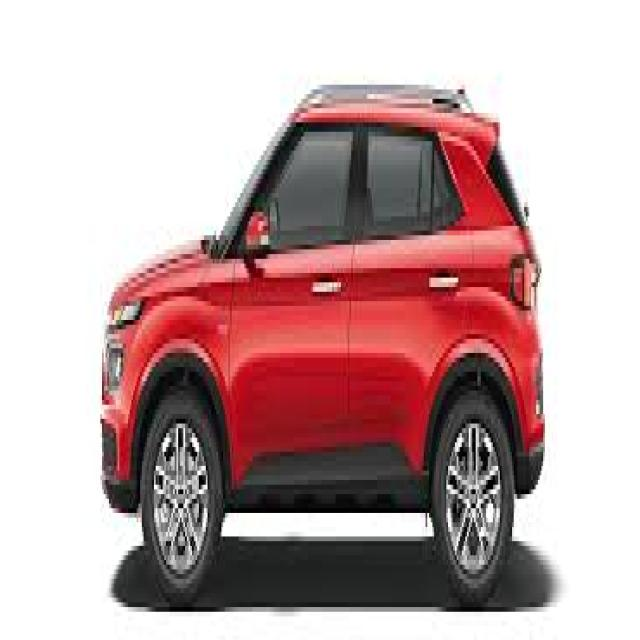car: (101, 86, 545, 571)
